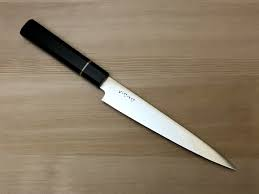knife: (16, 12, 240, 174)
